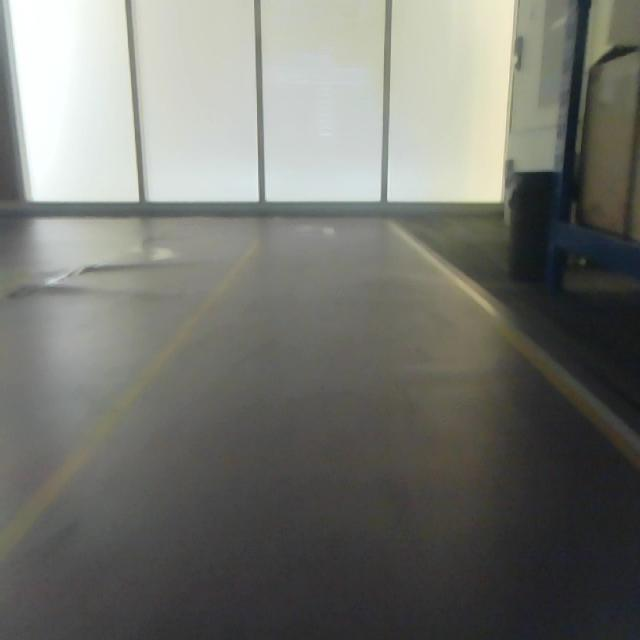left_lane: (0, 241, 257, 568)
right_lane: (385, 223, 639, 474)
